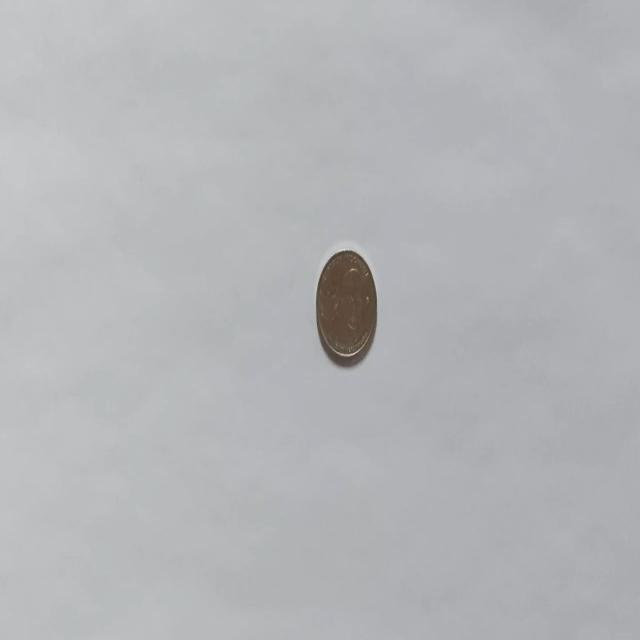seribu rupiah koin: (314, 246, 378, 364)
